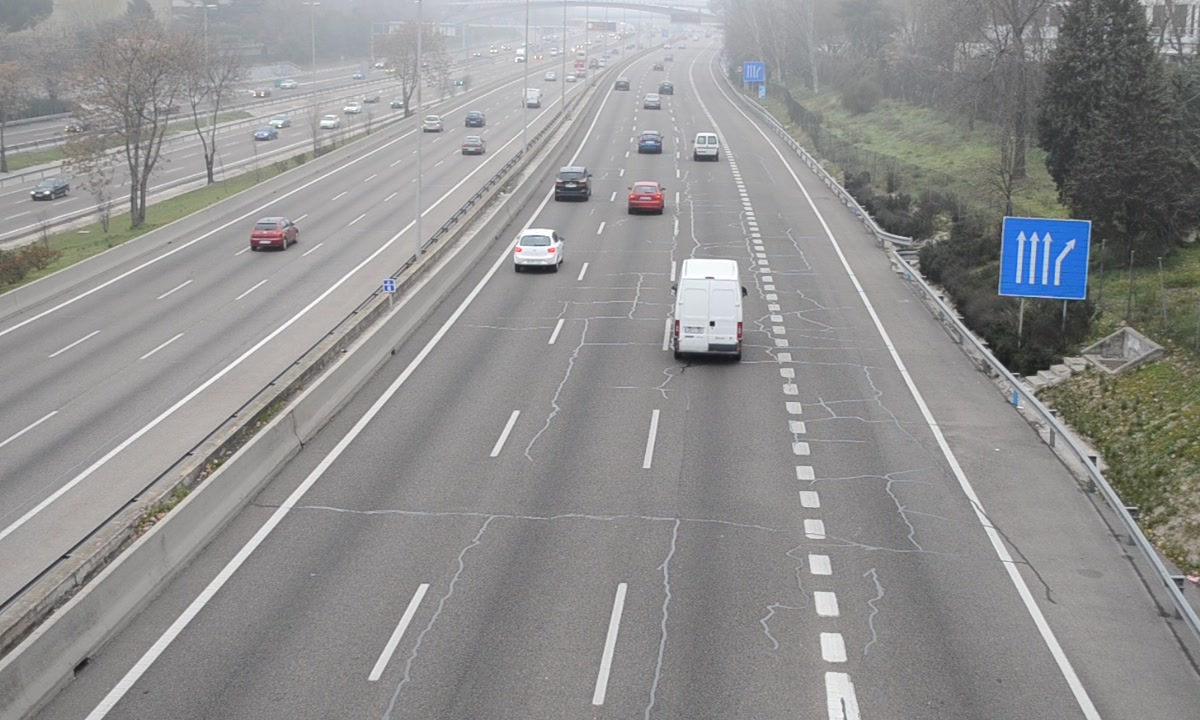car: (511, 230, 563, 267), (553, 166, 592, 203), (629, 181, 665, 216), (637, 129, 664, 156)
van: (673, 259, 745, 365), (693, 132, 722, 162)
